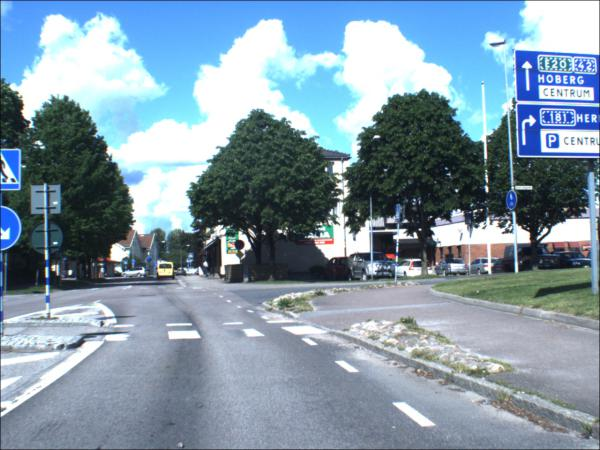NO_STOPPING_NO_STANDING: (235, 241, 247, 252)
PASS_RIGHT_SIDE: (3, 208, 24, 254), (148, 258, 154, 264), (155, 264, 160, 268)
PEDESTRIAN_CROSSING: (2, 150, 24, 192), (56, 250, 65, 260), (398, 206, 402, 222), (190, 254, 195, 261), (188, 260, 192, 264), (126, 262, 130, 266)
PRIORITY_ROAD: (237, 252, 246, 261)
